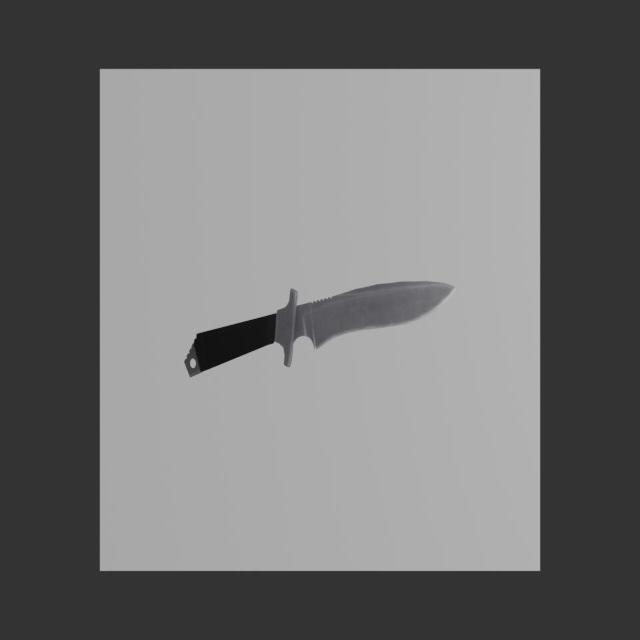knife: (185, 314, 276, 378)
